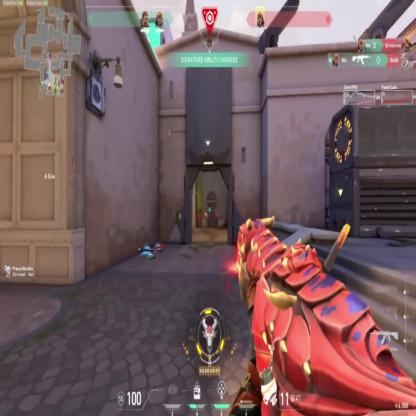enemy: (214, 208, 218, 228)
enemy_head: (215, 209, 217, 214)
